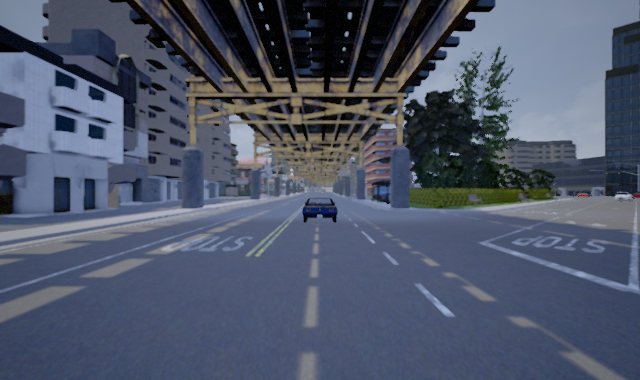vehicle: (301, 196, 338, 222)
